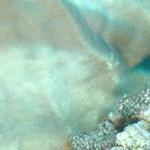alive: (5, 14, 147, 147)
